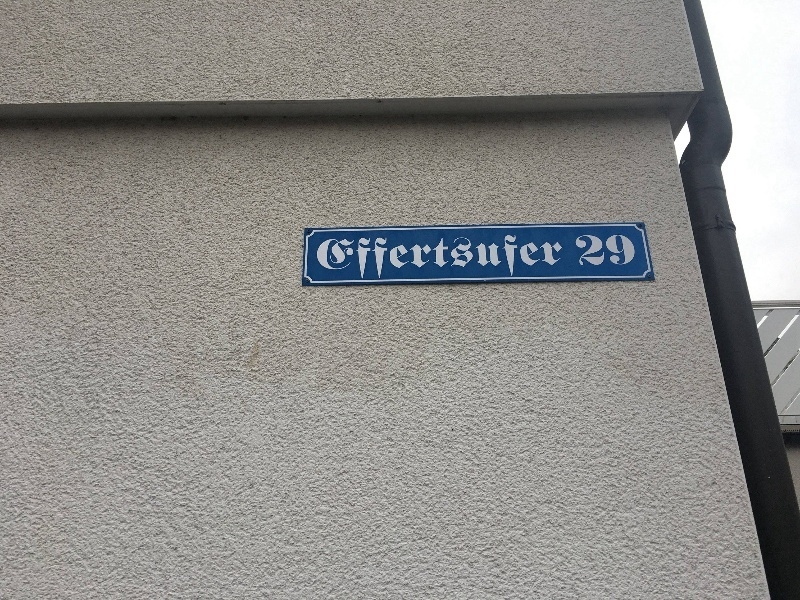text: (321, 235, 336, 281), (337, 235, 352, 281), (353, 235, 368, 281), (369, 235, 384, 281), (385, 235, 400, 281), (401, 235, 416, 281), (417, 235, 432, 281), (433, 235, 448, 281), (449, 235, 464, 281), (465, 235, 480, 281), (481, 235, 496, 281), (497, 235, 512, 281), (513, 235, 528, 281), (529, 235, 544, 281), (545, 235, 560, 281), (577, 234, 592, 269), (593, 234, 608, 269), (609, 234, 624, 269), (625, 234, 637, 269), (561, 235, 566, 281), (318, 235, 320, 281), (575, 234, 576, 269)
